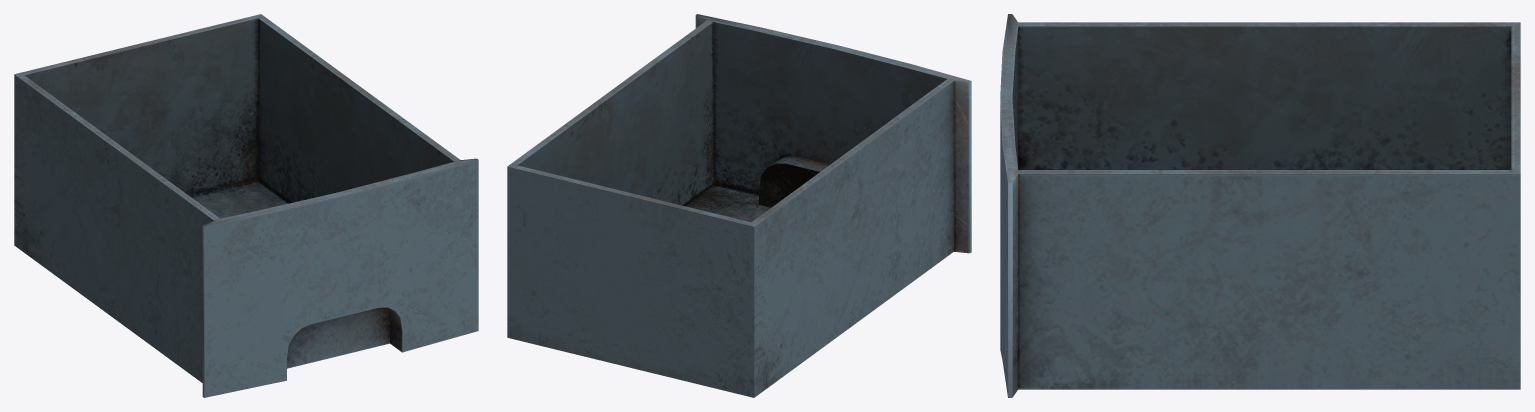
The model's file is drawer01.FBX.
3 renders of one model, left to right at view 1: azimuth 30°, elevation 25°; view 2: azimuth 150°, elevation 25°; view 3: azimuth 270°, elevation 25°, orthographic. The views are drawn at different scales.
Parts seen in each view (by area): view 1: SM_Drawer_01; view 2: SM_Drawer_01; view 3: SM_Drawer_01.
Boxes of the visible parts, bbox=[...] form: SM_Drawer_01: bbox=[14, 14, 478, 397]; SM_Drawer_01: bbox=[507, 14, 971, 397]; SM_Drawer_01: bbox=[1000, 14, 1520, 397].
Bounding box in the file's own units: 33.6 × 20.03 × 43.87.
Materials: 1 (1 with a texture image).
